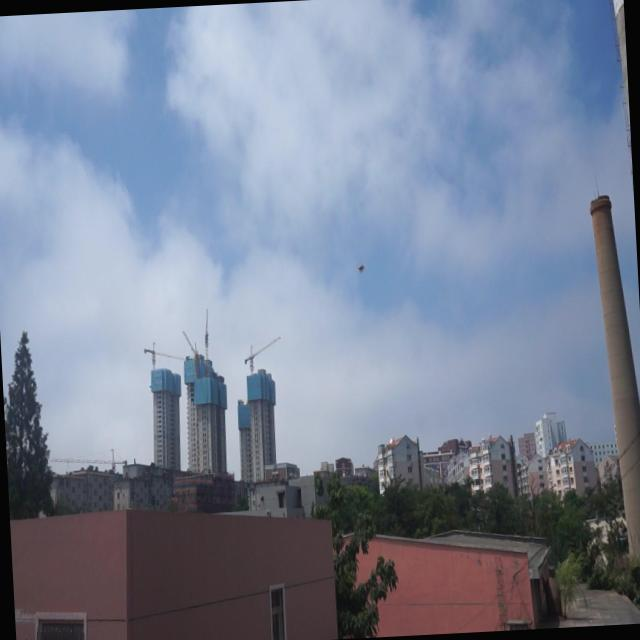drone: (353, 258, 368, 276)
